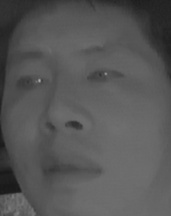eye: (85, 65, 125, 89), (14, 72, 48, 94)
mouth: (37, 148, 109, 191)
